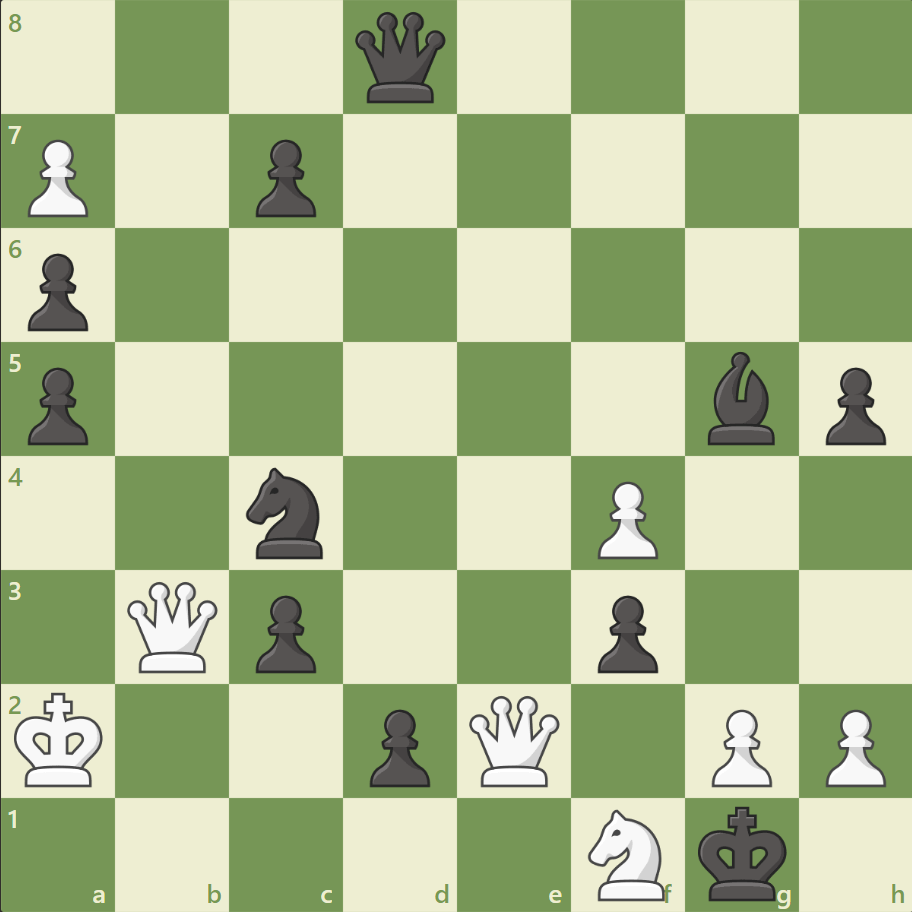K: (11, 685, 111, 793)
N: (579, 802, 676, 904)
P: (20, 132, 95, 223), (701, 700, 776, 791), (588, 473, 662, 564), (815, 700, 889, 791)
Q: (124, 576, 223, 676), (464, 690, 563, 789)
b: (698, 347, 782, 449)
k: (692, 798, 792, 906)
n: (238, 461, 335, 564)
p: (247, 132, 322, 223), (20, 246, 95, 337), (20, 359, 95, 450), (247, 586, 322, 677), (815, 359, 889, 450), (588, 586, 662, 677), (361, 700, 435, 791)
q: (351, 9, 450, 108)
